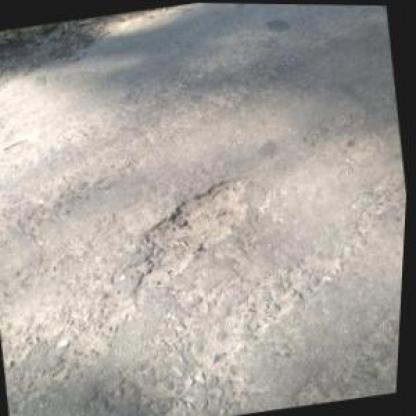pothole: (121, 170, 266, 292)
